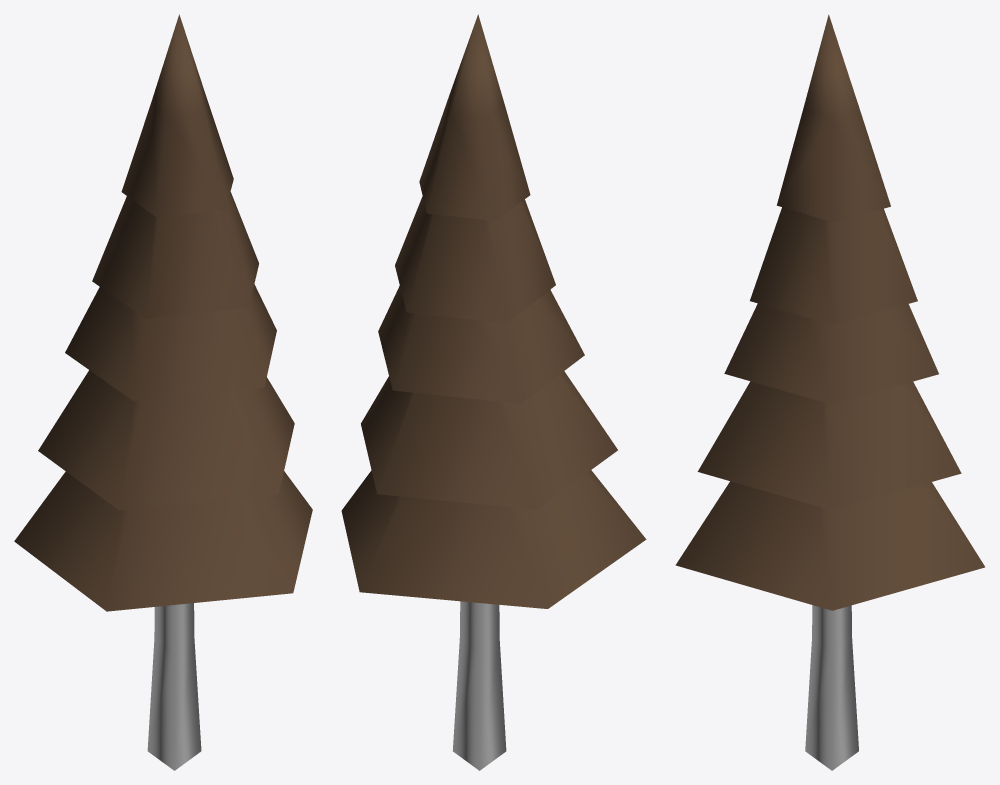
File: pine1.fbx
3 views of the same model, side by side, from view 1: azimuth 30°, elevation 25°; view 2: azimuth 150°, elevation 25°; view 3: azimuth 270°, elevation 25° (orthographic).
Visible parts, largest first — view 1: Cylinder001; view 2: Cylinder001; view 3: Cylinder001.
Part boxes in pixels (bbox=[...]): Cylinder001: bbox=[14, 14, 312, 770]; Cylinder001: bbox=[341, 14, 646, 770]; Cylinder001: bbox=[675, 14, 984, 770].
Bounding box in the file's own units: 559 × 1551 × 585.
